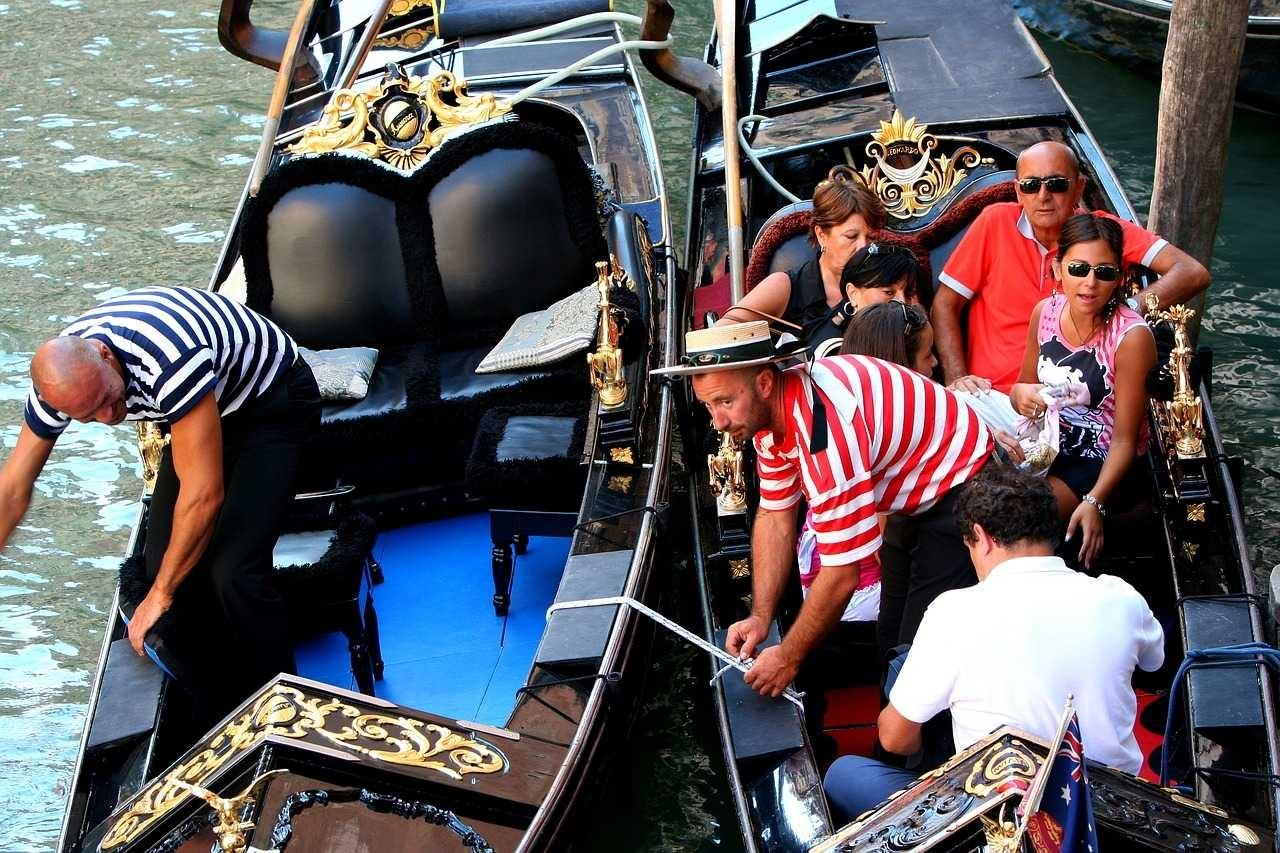kayak: (28, 4, 684, 847), (651, 13, 1247, 830), (1012, 1, 1280, 123)
